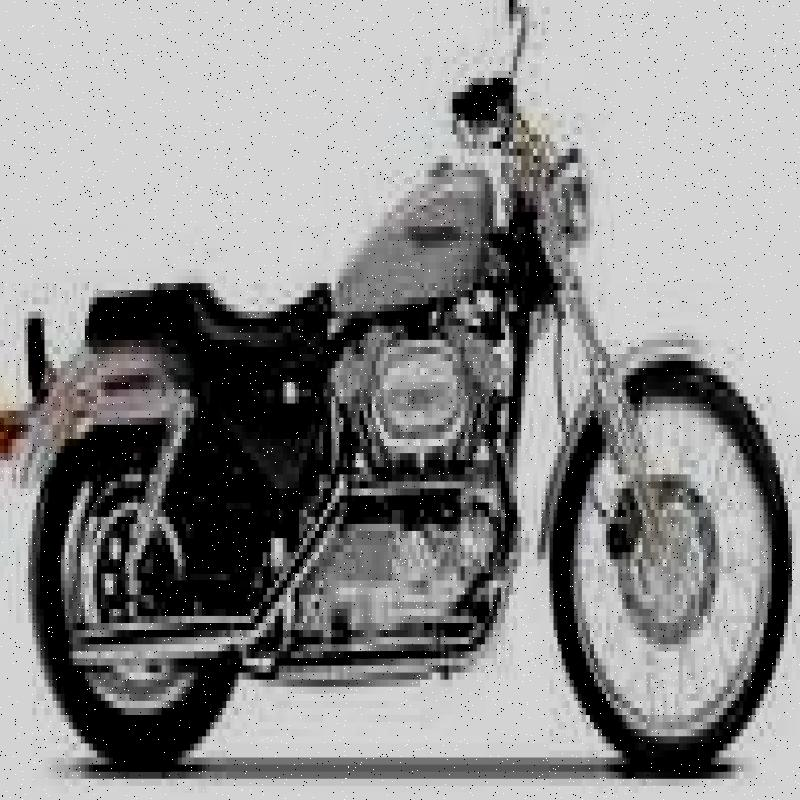bike: (8, 28, 800, 793)
